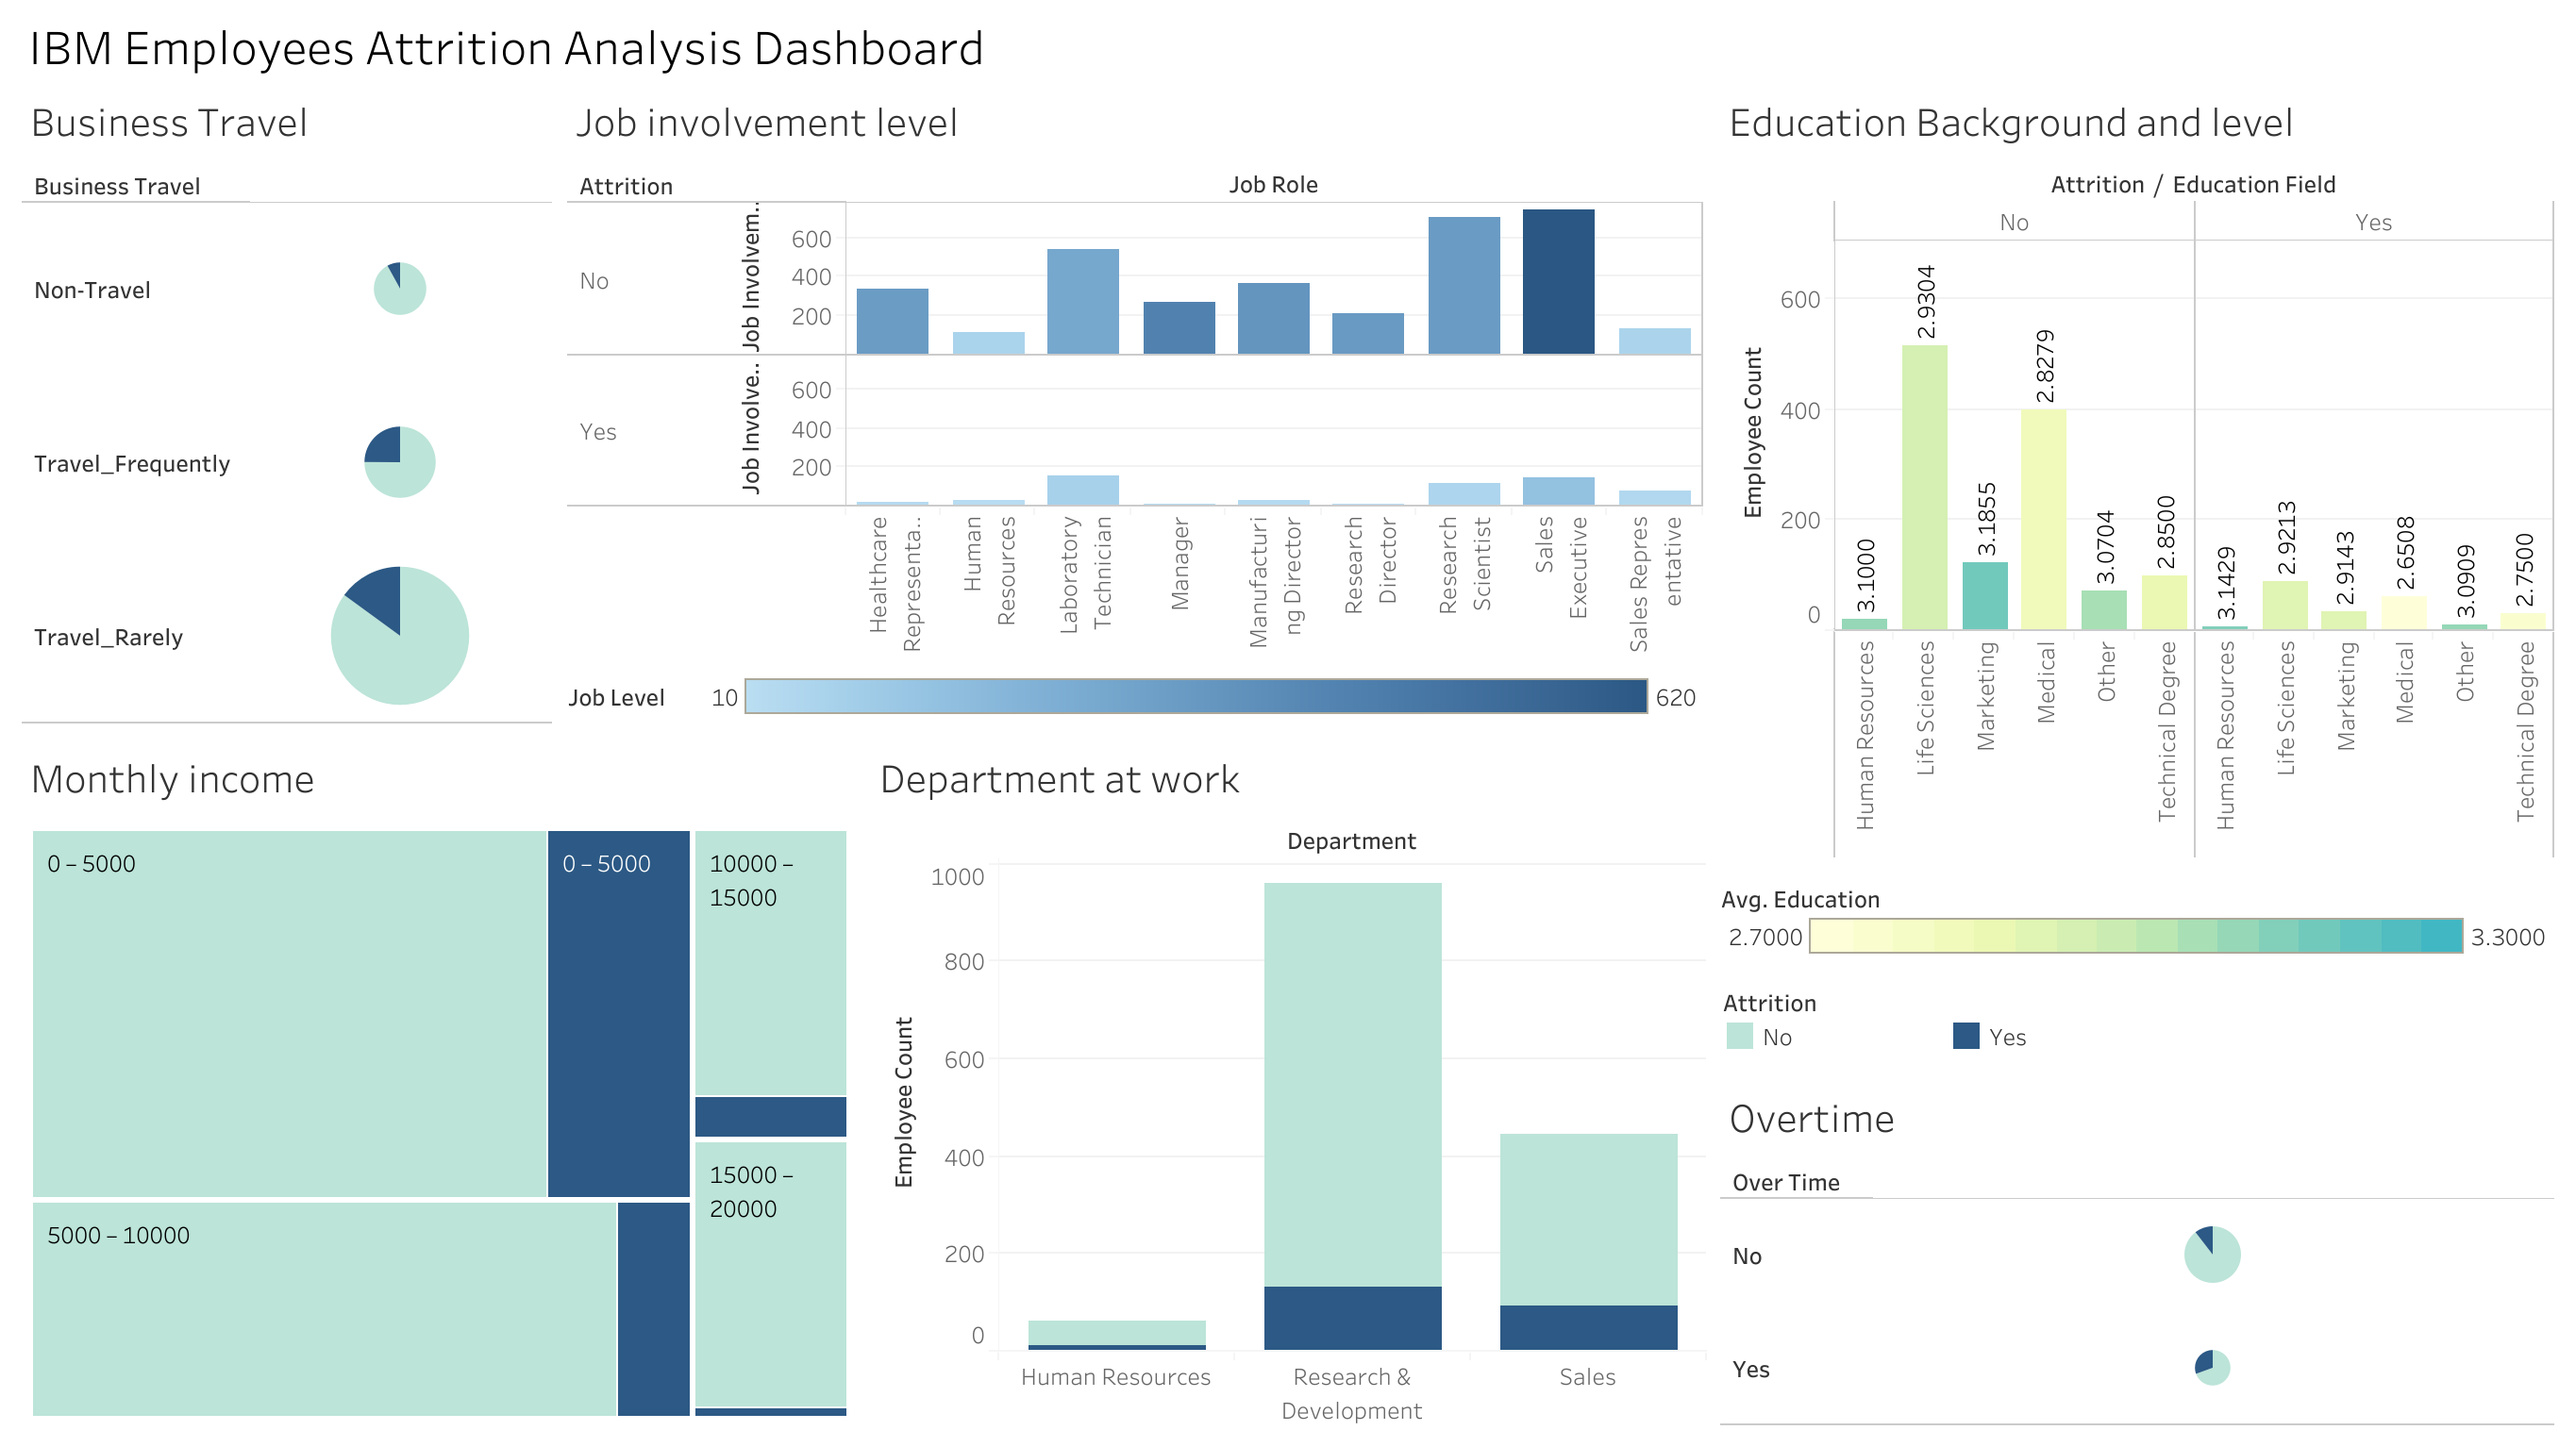

The page's visual inventory and layout, read from the dashboard file:
{"tool":"tableau","page":{"name":"IBM Employee Attrition Analysis Dashboard","canvas":[1366,768],"ordinal":0},"visuals":[{"type":"title","box":[8,8,1350,32]},{"type":"worksheet","title":"Business Travel","mark":"Pie","rows":["BusinessTravel"],"box":[8,40,289,348]},{"type":"worksheet","title":"Job involvement level","mark":"Automatic","rows":["Attrition","JobInvolvement"],"cols":["JobRole"],"box":[297,40,611,312]},{"type":"worksheet","title":"Education Background and level","mark":"Automatic","rows":["EmployeeCount"],"cols":["Attrition","EducationField"],"box":[908,40,450,419]},{"type":"legend","title":"Job involvement level","param":"[federated.0x495pn05lyw5917zy6na0lc94vh].[sum:JobLevel:qk]","box":[297,352,611,36]},{"type":"worksheet","title":"Monthly income","mark":"Automatic","box":[8,388,450,372]},{"type":"worksheet","title":"Department at work","mark":"Automatic","rows":["EmployeeCount"],"cols":["Department"],"box":[458,388,450,372]},{"type":"legend","title":"Education Background and level","param":"[federated.0x495pn05lyw5917zy6na0lc94vh].[avg:Education:qk]","box":[908,459,450,57]},{"type":"legend","title":"Business Travel","param":"[federated.0x495pn05lyw5917zy6na0lc94vh].[none:Attrition:nk]","box":[908,516,450,52]},{"type":"worksheet","title":"Overtime","mark":"Pie","rows":["OverTime"],"box":[908,568,450,192]}]}

Visuals, with their boxes in screenshot pixels (x1, y1, x2, y2), scaled from the page's 1366x768 canvas onto the 2576x1447 screenshot:
title: 15,15,2561,75
"Business Travel" worksheet (Pie marks): 15,75,560,731
"Job involvement level" worksheet: 560,75,1713,663
"Education Background and level" worksheet: 1713,75,2561,865
"Job involvement level" legend: 560,663,1713,731
"Monthly income" worksheet: 15,731,863,1432
"Department at work" worksheet: 863,731,1713,1432
"Education Background and level" legend: 1713,865,2561,973
"Business Travel" legend: 1713,973,2561,1071
"Overtime" worksheet (Pie marks): 1713,1071,2561,1432
